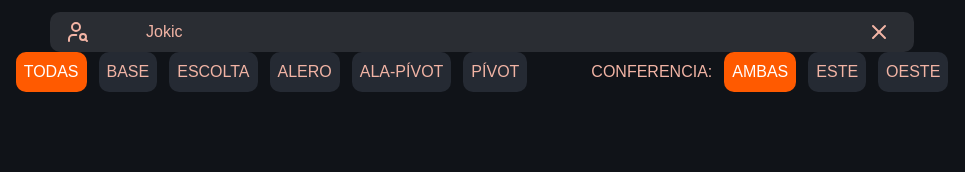
Test: PlayerSearcher: texto de búsqueda › borra el texto al pulsar Borrar búsqueda
Click the button named "Borrar búsqueda": (879, 32) [863,16,895,48]
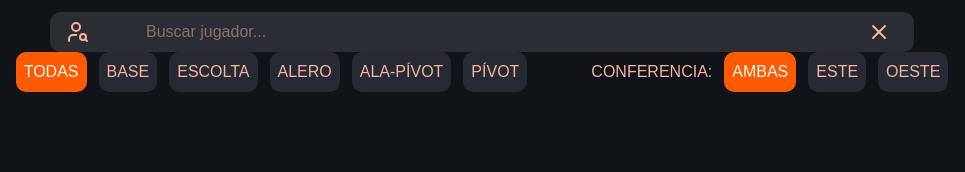
Now the field is empty, box [50,12,914,52]
